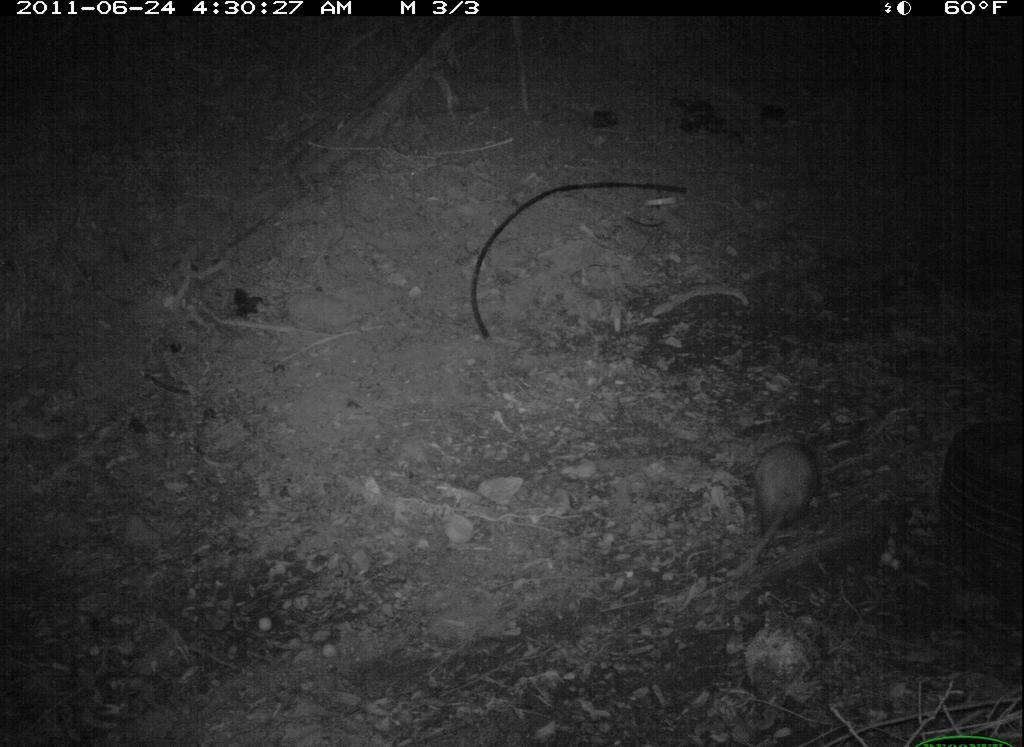opossum: (743, 429, 825, 591)
